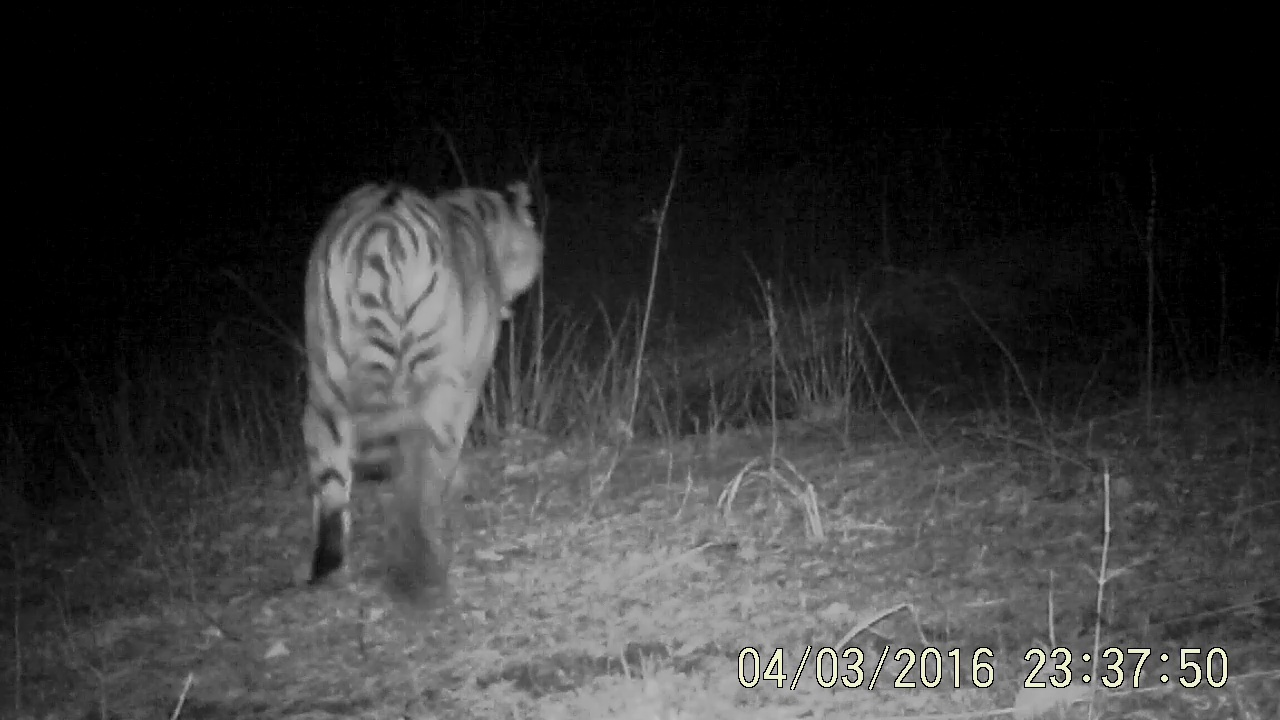Tiger: (266, 122, 613, 678)
